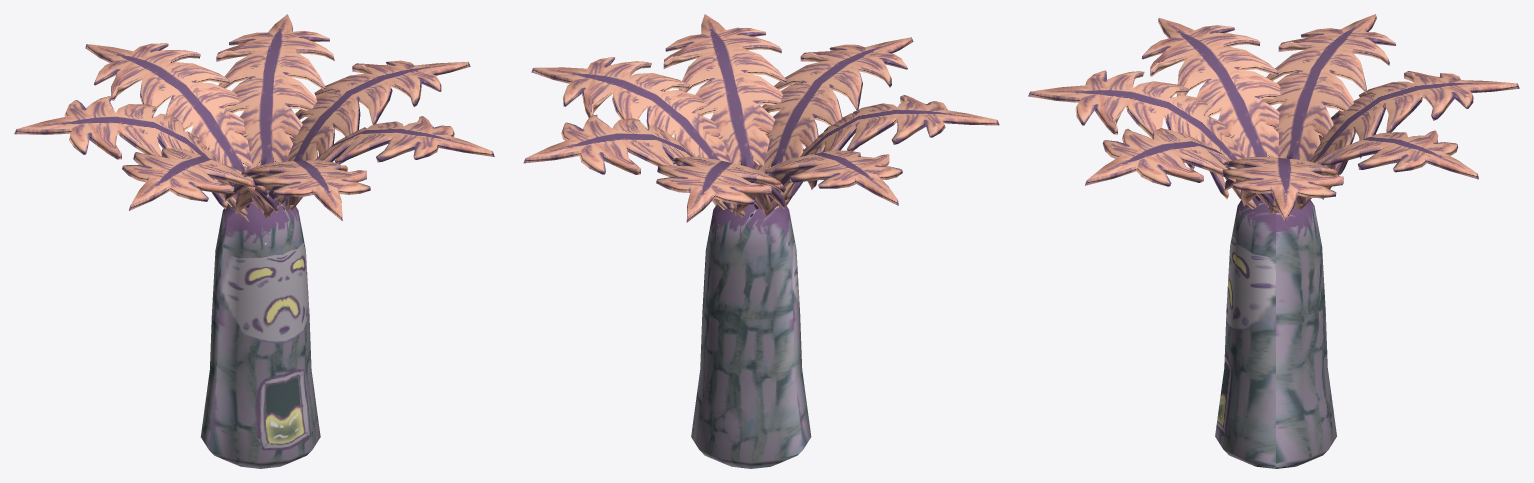
File: Sawit_Enemy_T_POSE.fbx
The picture shows the model from 3 angles, left to right: view 1: azimuth 30°, elevation 25°; view 2: azimuth 150°, elevation 25°; view 3: azimuth 270°, elevation 25°; orthographic projection.
Parts seen in each view (by area): view 1: SAWIT_ENEMY; view 2: SAWIT_ENEMY; view 3: SAWIT_ENEMY.
Part boxes in pixels (x1,y1,x2,y2): SAWIT_ENEMY: (14,14,494,468); SAWIT_ENEMY: (523,14,999,468); SAWIT_ENEMY: (1028,14,1519,468).
Size of the model in its own units: 231 by 187 by 234.
1 material, 1 textured.
